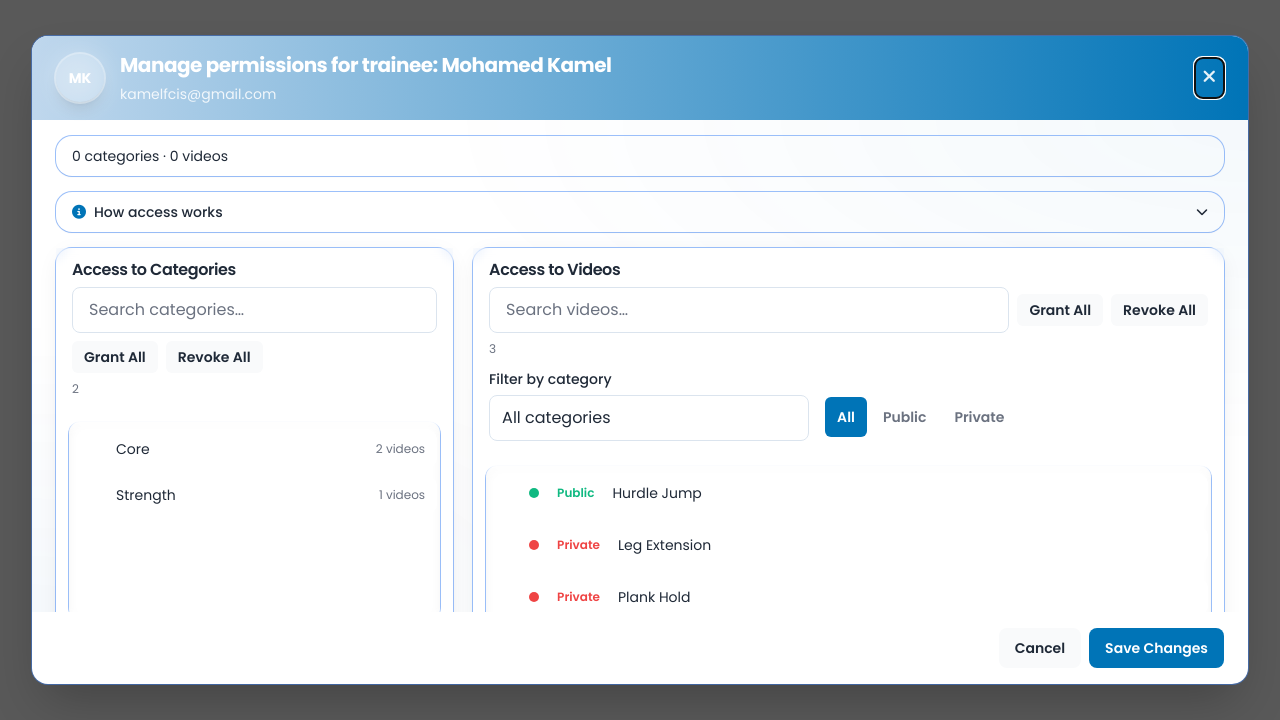
Test: TraineeAccessModal › search filters category list
Type "Strength" into the field with test id "access-panel-search" at {"x": 255, "y": 310}, box [72,287,437,333]
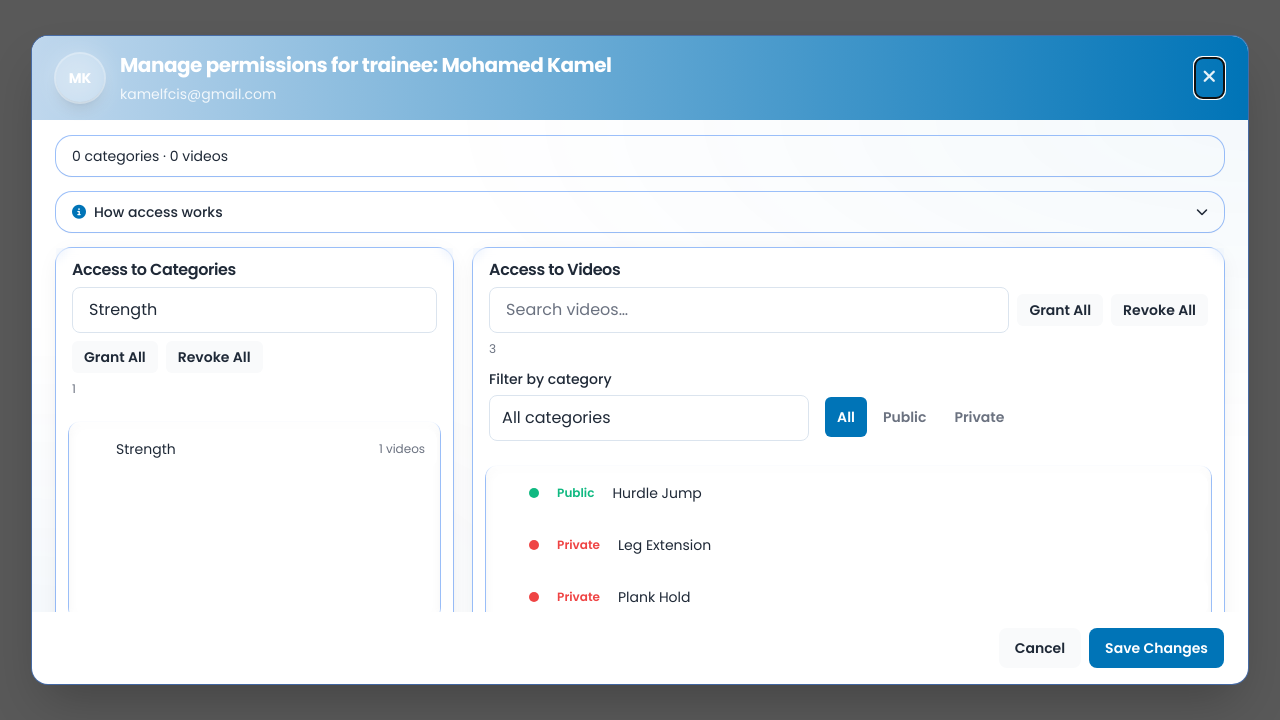
Check: the button labelled "Core" is gone
